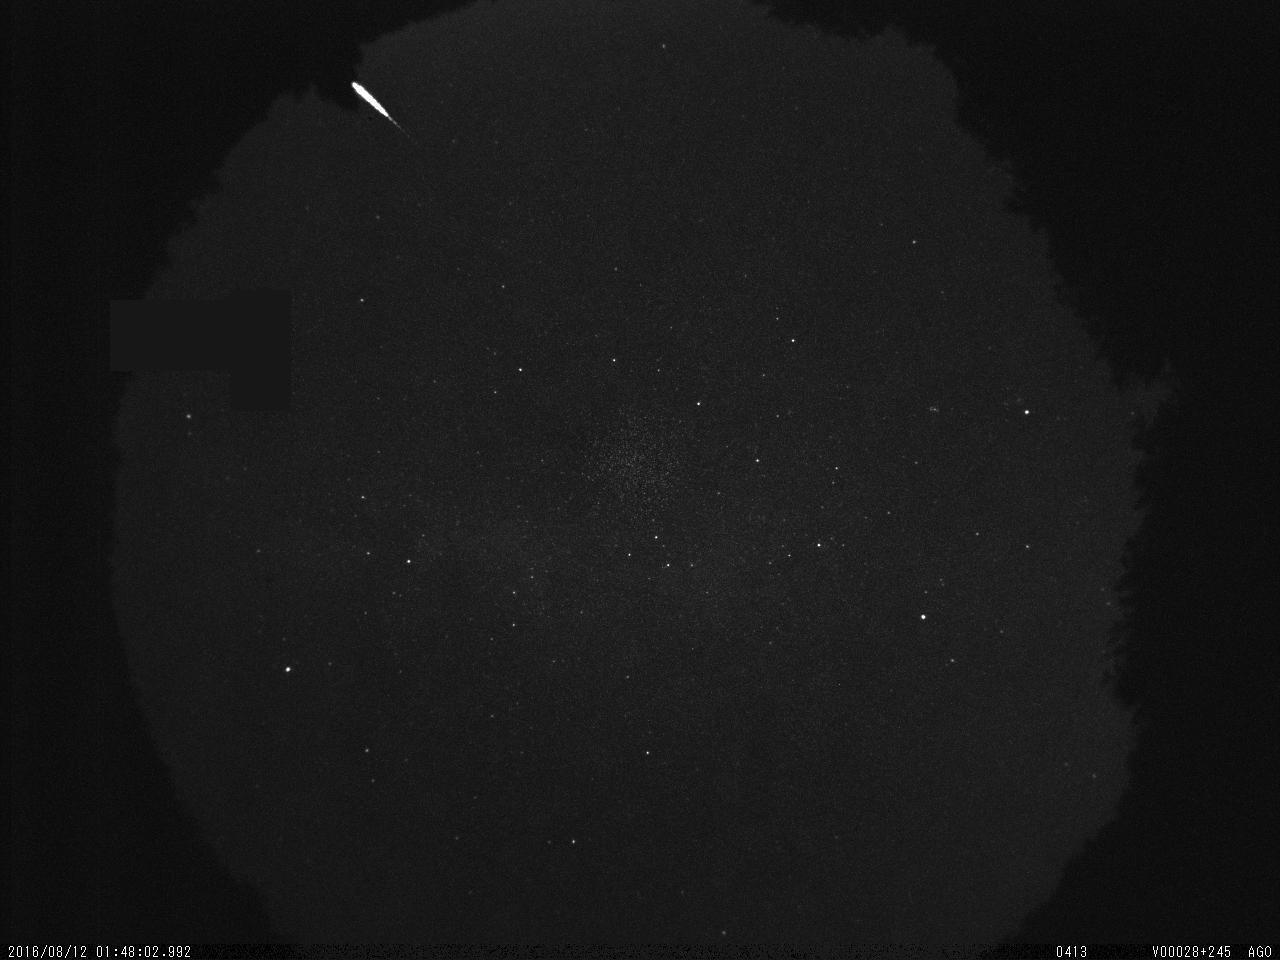meteor: (350, 78, 420, 141)
